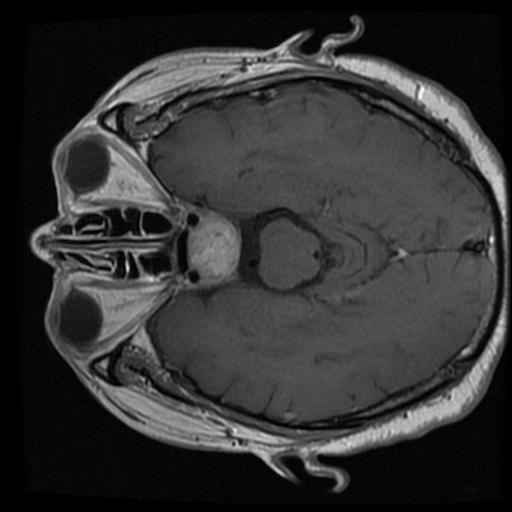pituitary tumour: (185, 214, 239, 281)
